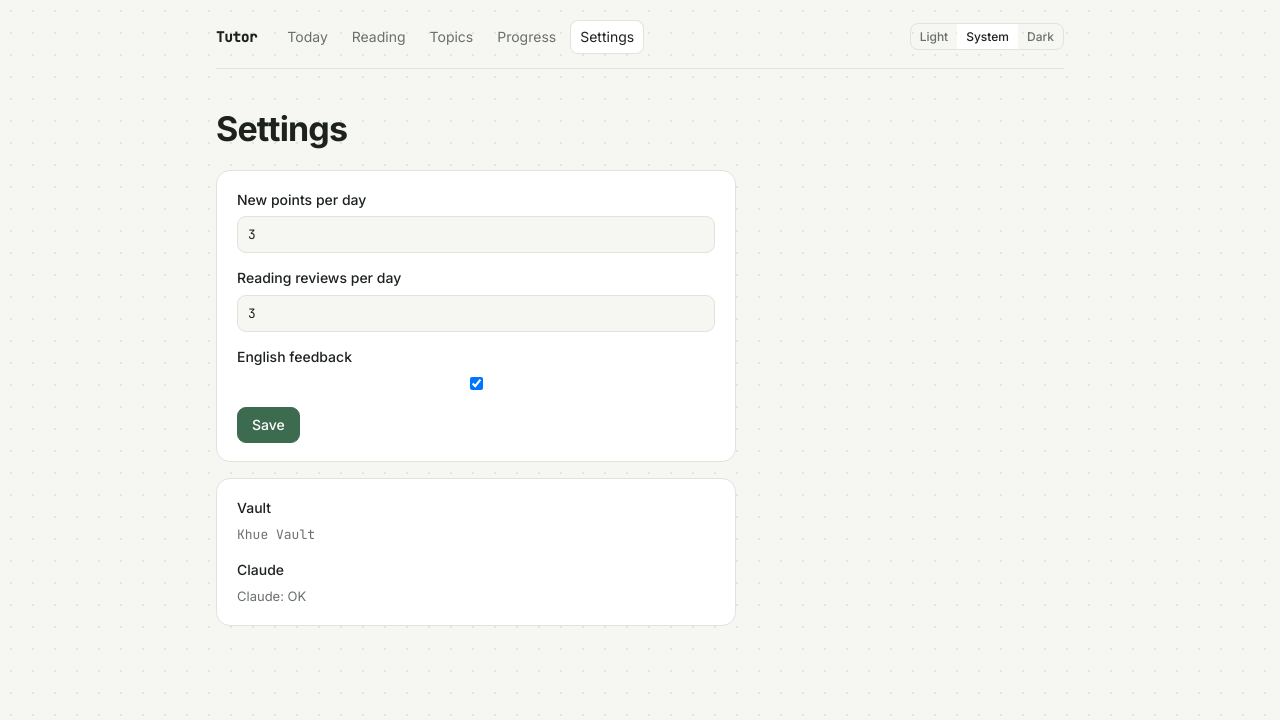
Scenario: settings toggles english feedback
Click the checkbox labelled "English feedback" at coordinates (476, 383), box left=241, top=377, right=712, bottom=390
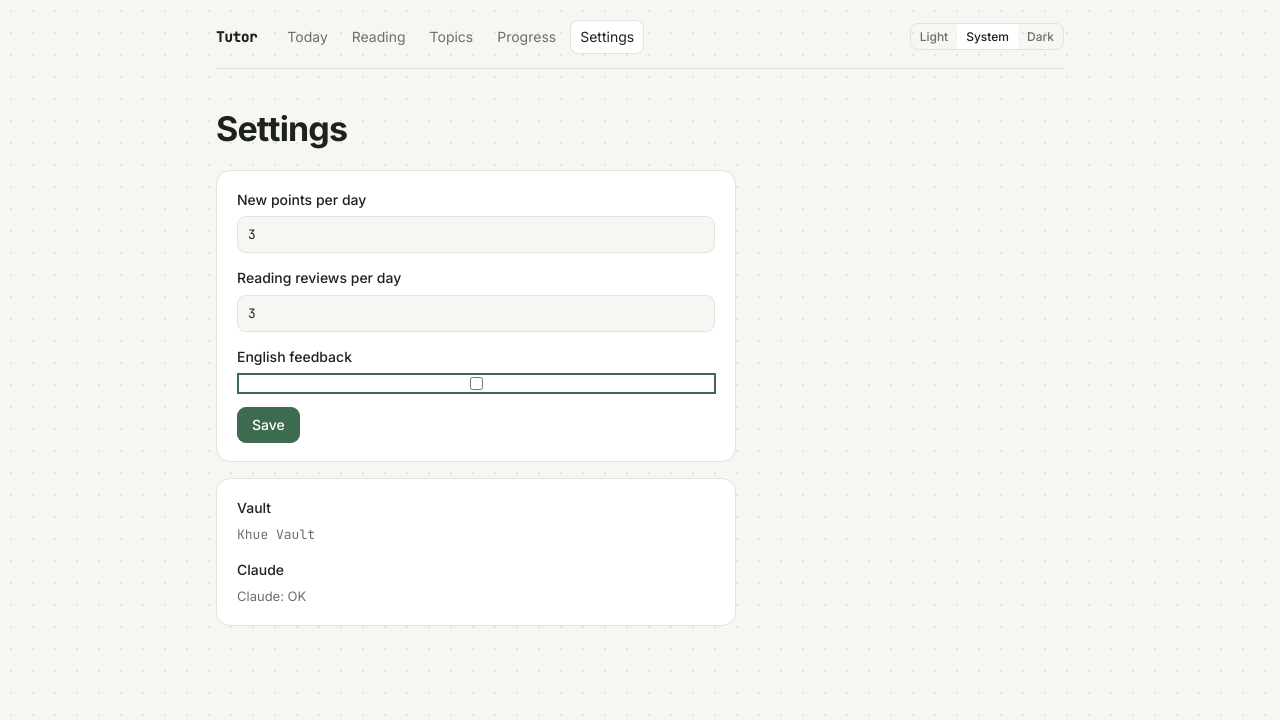
Click the button "Save" at coordinates (268, 425), box left=237, top=407, right=300, bottom=443
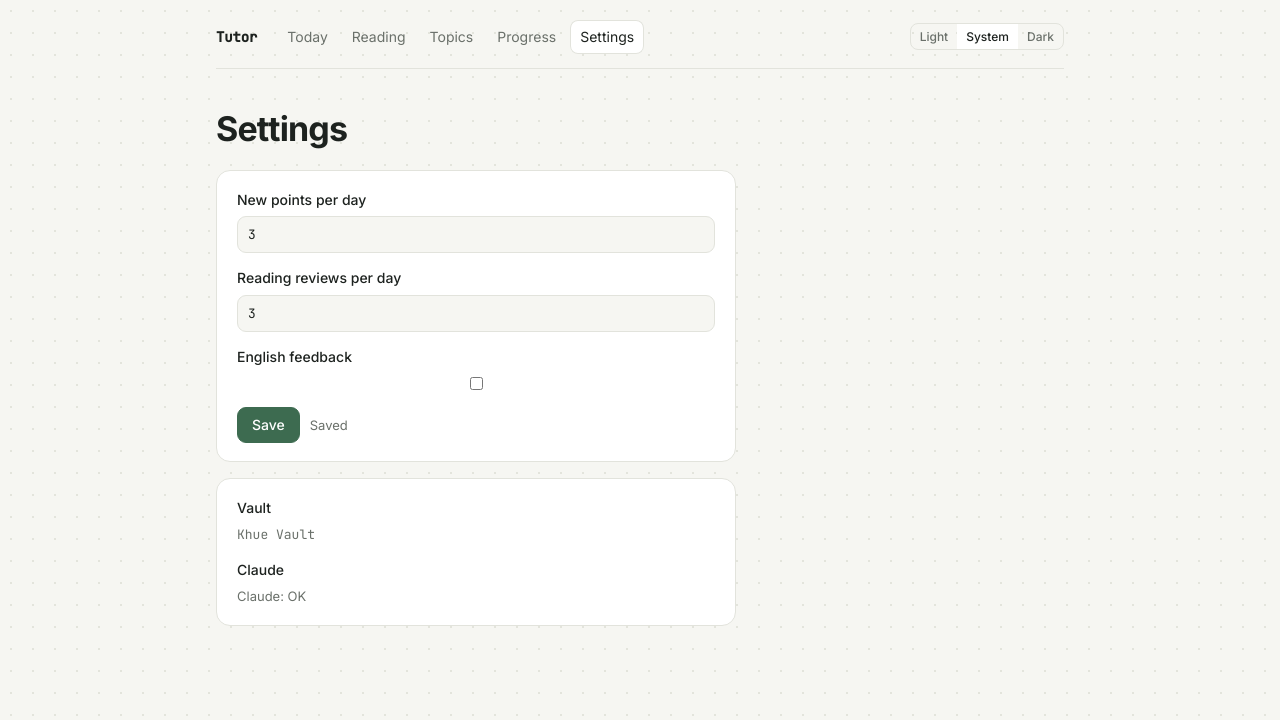
Expected: the text "Claude: OK" is shown, left=237, top=588, right=306, bottom=604
Expected: the text "Saved" is shown, left=310, top=415, right=348, bottom=435
